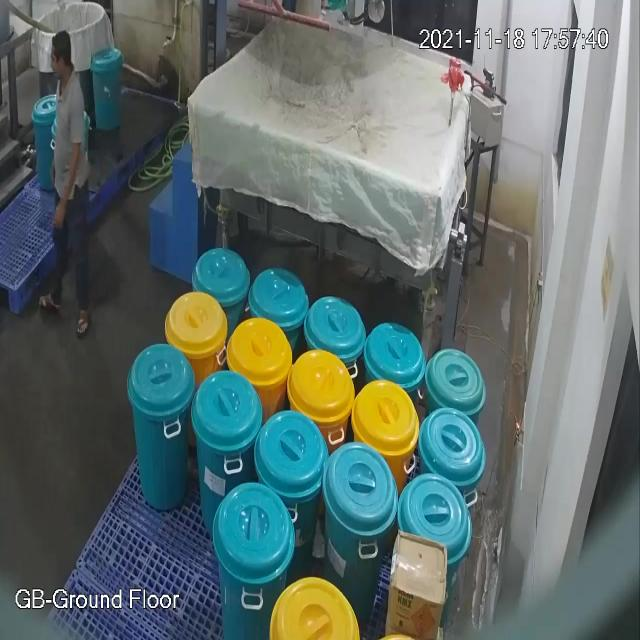no-shoes: (73, 306, 91, 338), (37, 293, 59, 314)
